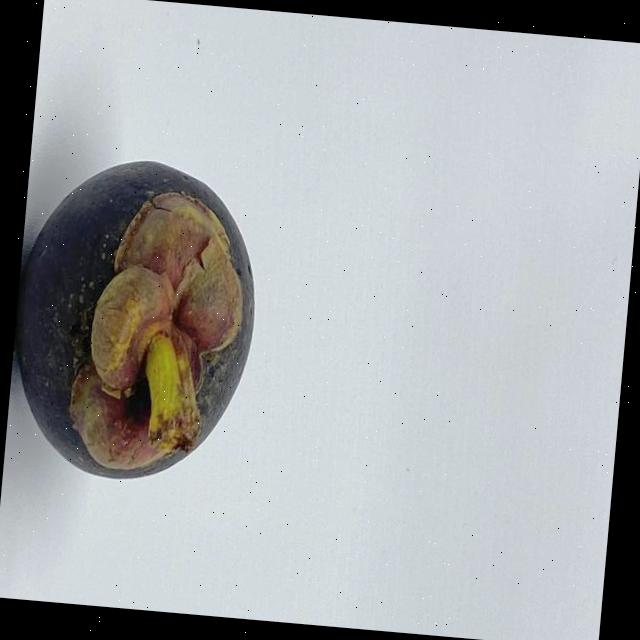mangosteen: (2, 140, 290, 497)
